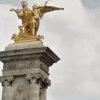Statue: (4, 1, 64, 47)
